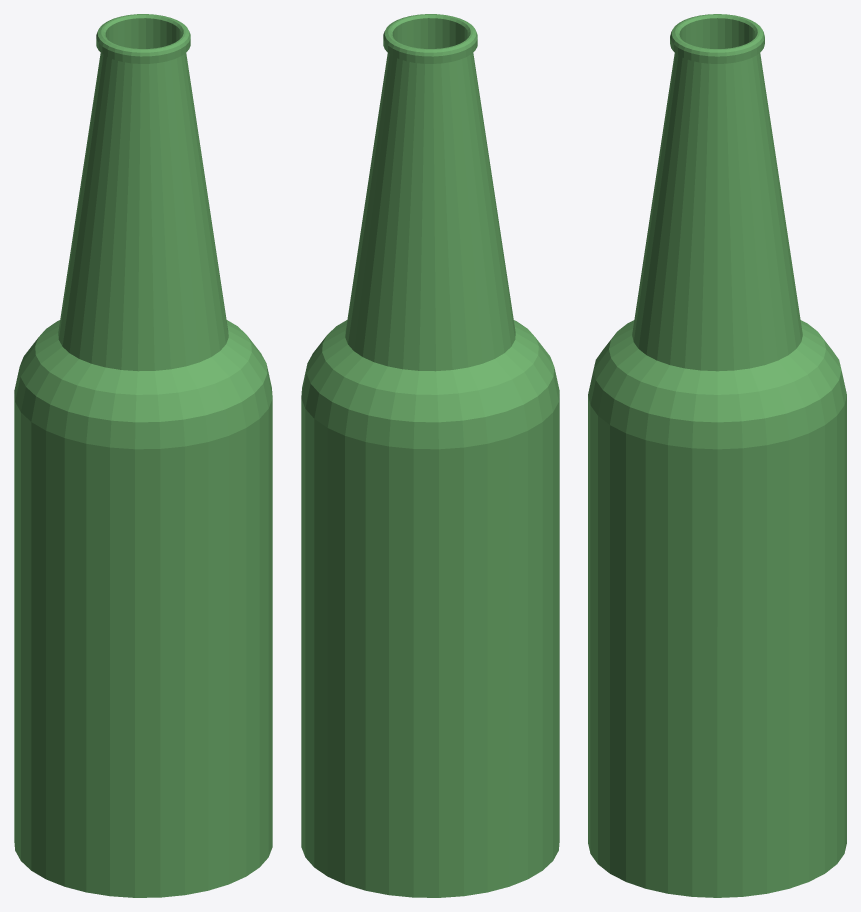
The model's file is Beer_bottle.fbx.
3 views of the same model, side by side, from view 1: azimuth 30°, elevation 25°; view 2: azimuth 150°, elevation 25°; view 3: azimuth 270°, elevation 25° (orthographic).
Visible parts, largest first — view 1: Cube; view 2: Cube; view 3: Cube.
Part boxes in pixels (bbox=[...]): Cube: bbox=[14, 14, 272, 897]; Cube: bbox=[301, 14, 559, 897]; Cube: bbox=[588, 14, 846, 897].
Bounding box in the file's own units: 200 × 691 × 200.
